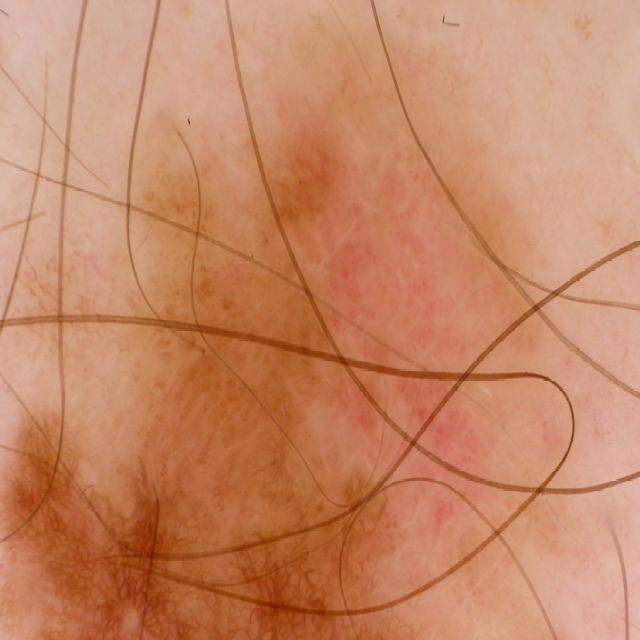Melanoma: (0, 401, 506, 640), (245, 135, 496, 372)
